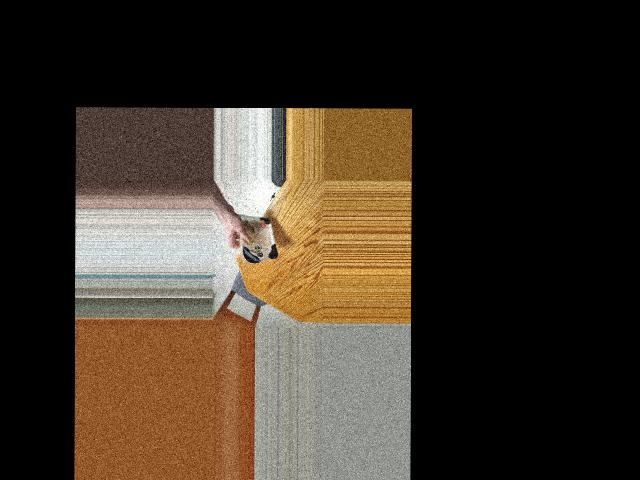cheese: (235, 206, 275, 265)
